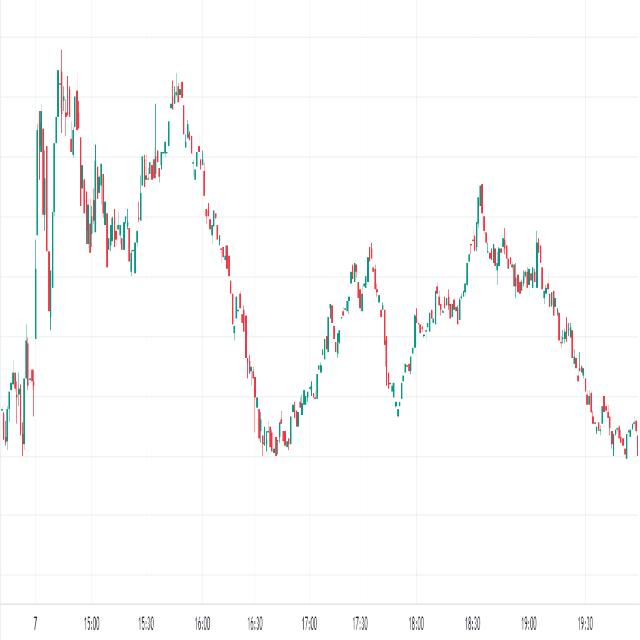Ascending-Triangle: (204, 243, 479, 485)
Triangle: (29, 8, 154, 371)
